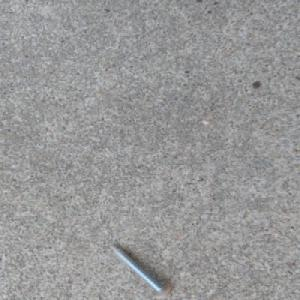Screw: (107, 243, 172, 299)
